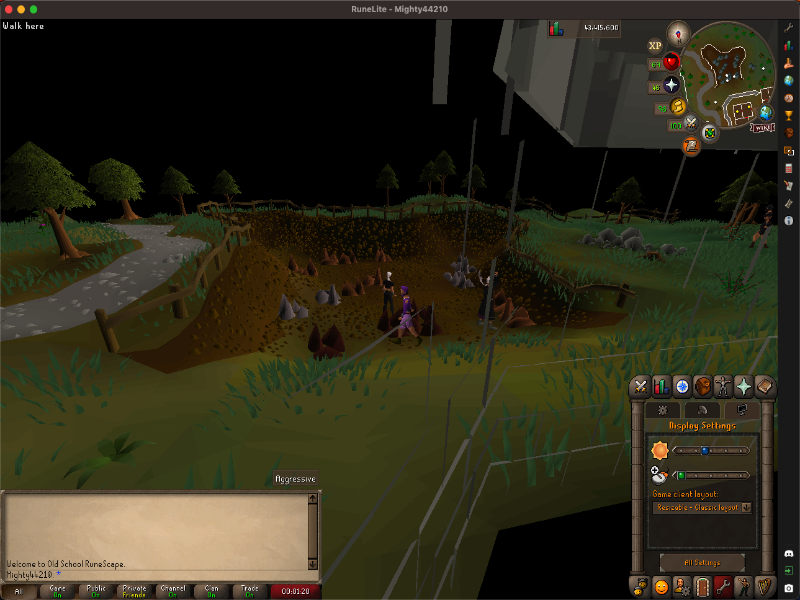iron: (313, 331, 340, 356), (418, 318, 438, 336), (384, 317, 405, 331)
